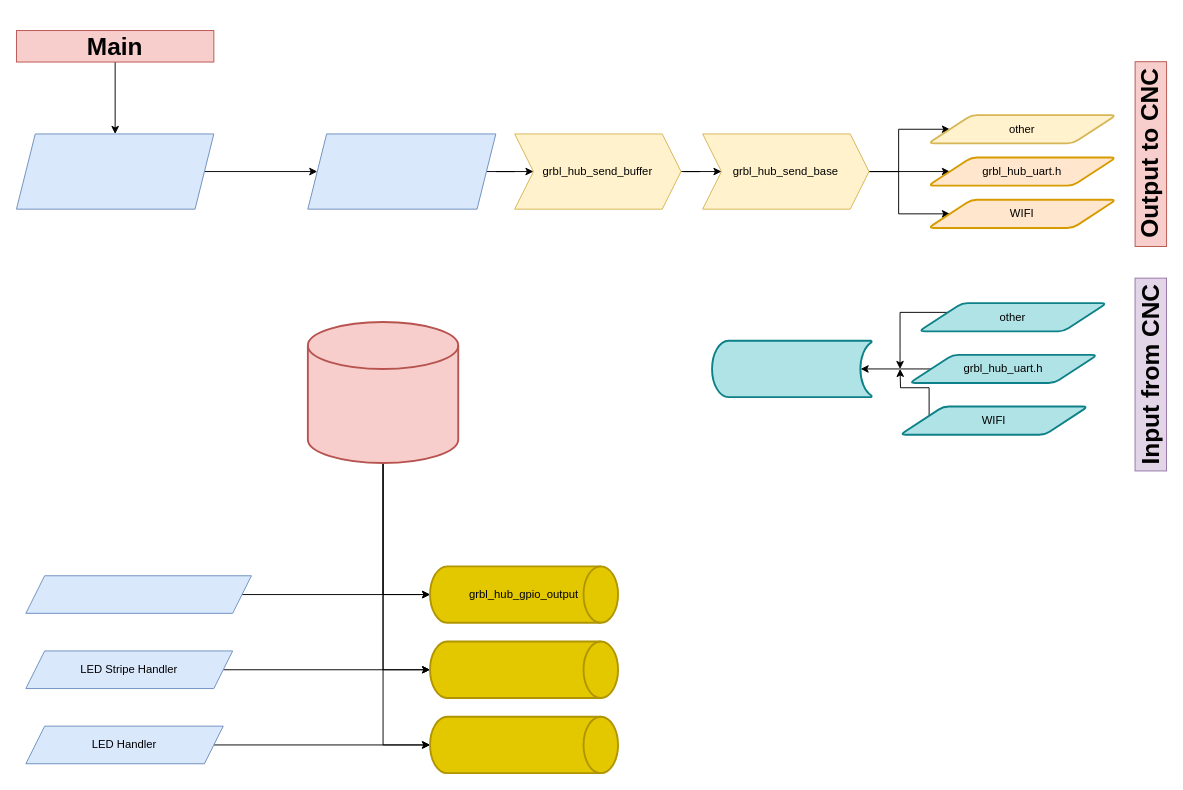
Some shapes in this 1183 by 790 pixel diagram are drawn without their labels. The box of each missing label's shape, as (x1, y1, x2, y2) in pixels:
Display: (429, 640, 619, 698)
GPIO Output Handler: (25, 575, 251, 613)
grbl_hub_receive_base: (711, 339, 872, 398)
grbl_hub_send_command: (307, 133, 496, 209)
grbl_hub_send_Handler: (16, 133, 214, 209)
LED Stripes: (429, 715, 619, 774)
Maschine_State State MPos WCO WPos other: (306, 321, 459, 463)
